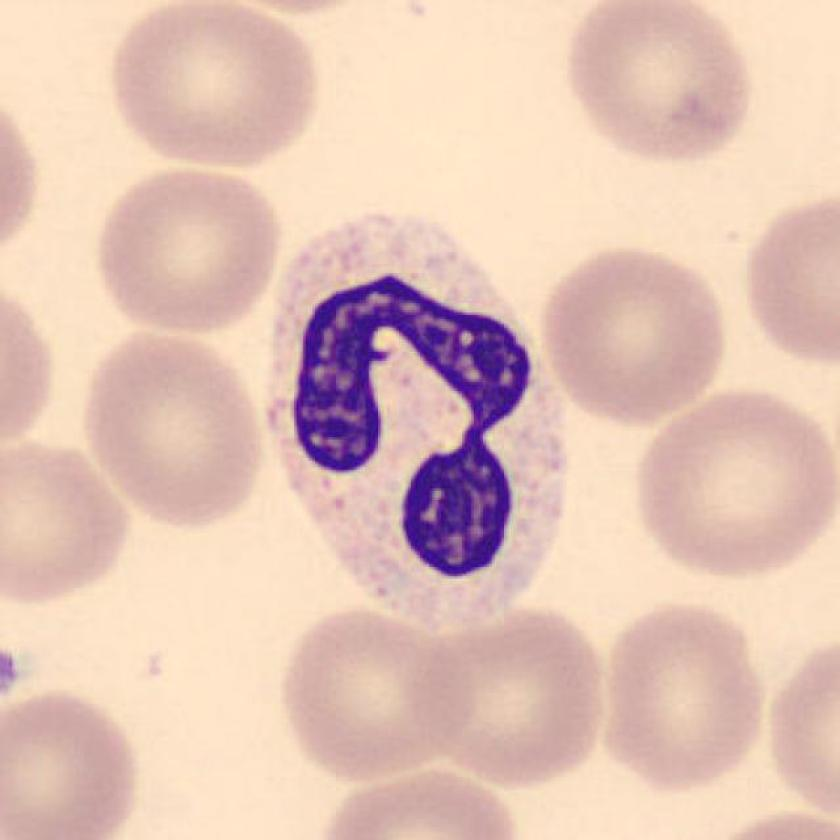neutrophil: (269, 214, 563, 638)
